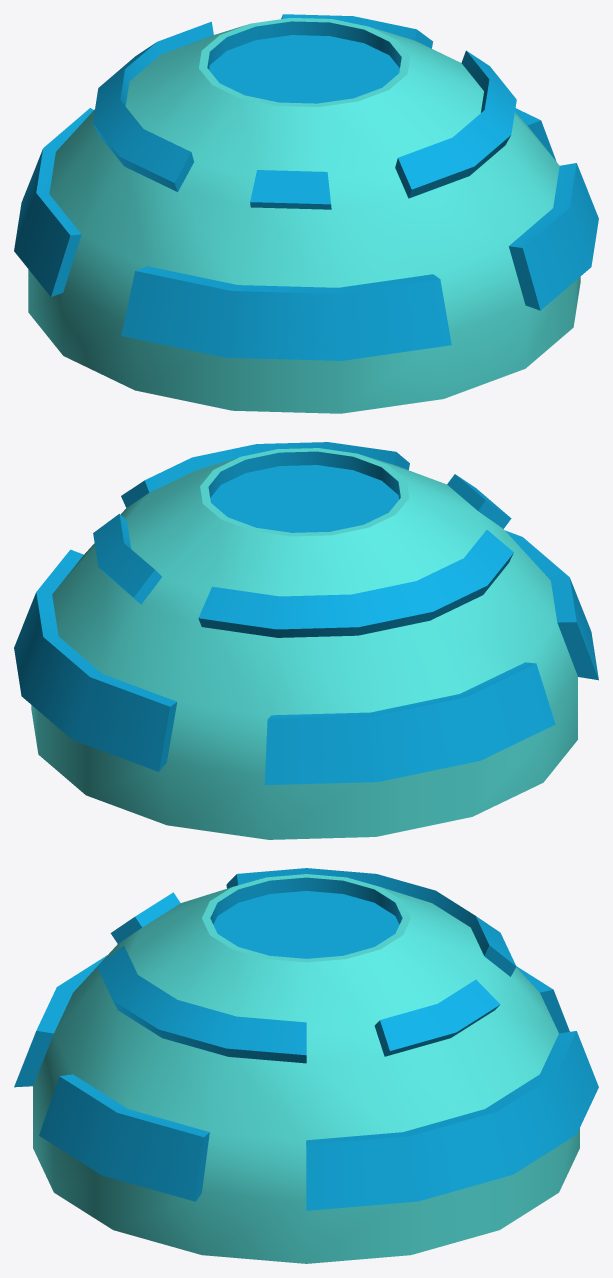
Rendered from AlienRuinsPodest.gltf.
3 renders of one model, top to bottom at view 1: azimuth 30°, elevation 25°; view 2: azimuth 150°, elevation 25°; view 3: azimuth 270°, elevation 25°, orthographic.
Visible parts, largest first — view 1: AlienRuinPodest; view 2: AlienRuinPodest; view 3: AlienRuinPodest.
Part boxes in pixels (box(x1,y1,x2,y2)): AlienRuinPodest: box(14, 14, 598, 413); AlienRuinPodest: box(14, 442, 598, 839); AlienRuinPodest: box(14, 868, 598, 1263).
Size of the model in its own units: 2.11 by 0.929 by 2.14.
